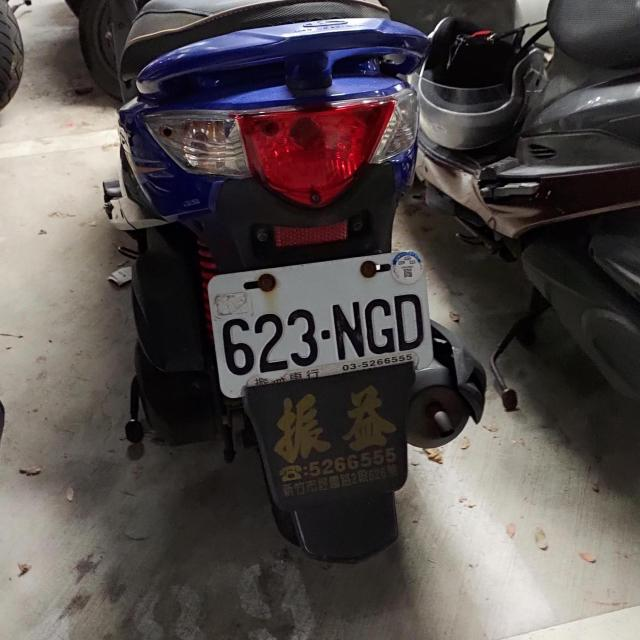W: (204, 249, 436, 394)
